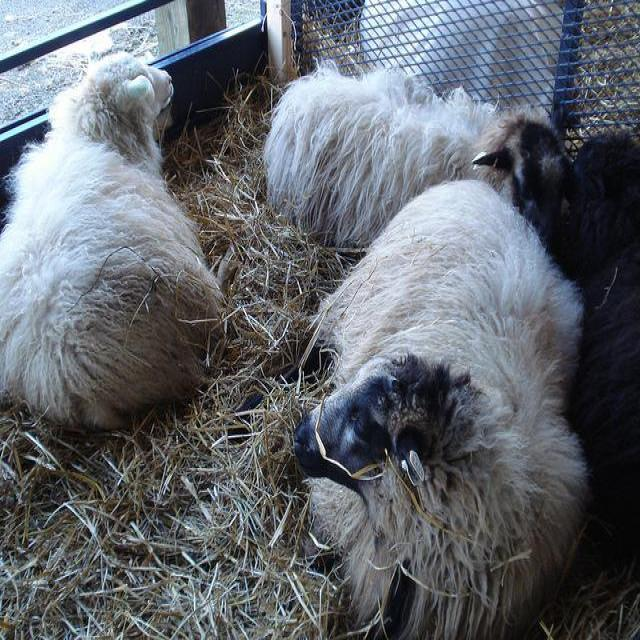Sheep: (220, 177, 595, 583), (1, 51, 231, 437), (265, 59, 589, 249), (549, 117, 639, 588)
